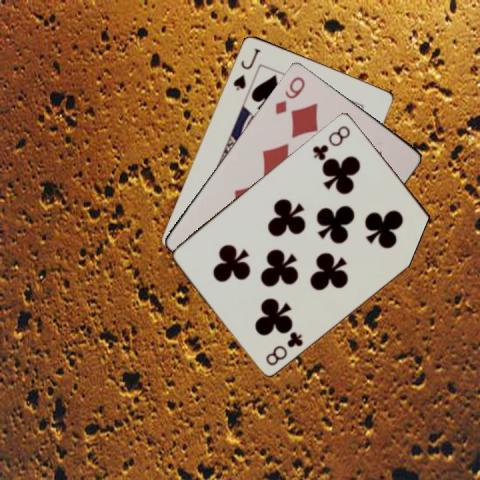8c: (309, 122, 352, 161), (262, 328, 304, 367)
9d: (272, 73, 307, 115)
Js: (230, 45, 262, 92)
